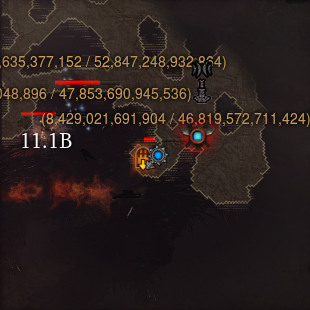Exit: (131, 145, 154, 172)
